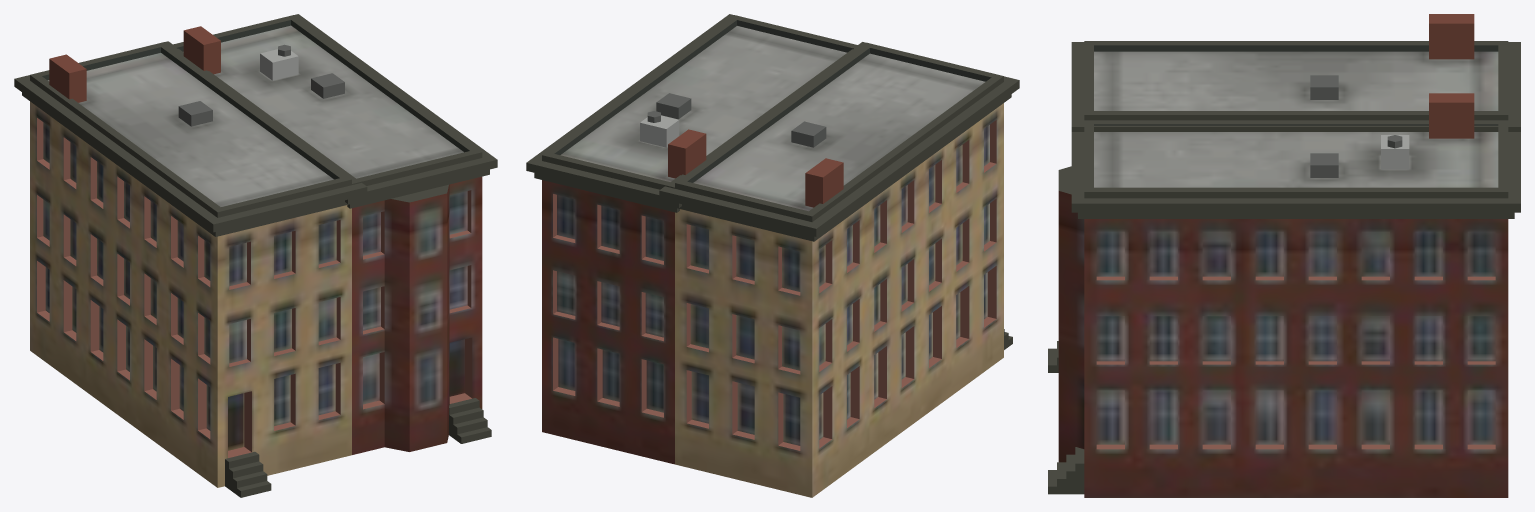
File: dc_brick_row_b.glb
3 renders of one model, left to right at view 1: azimuth 30°, elevation 25°; view 2: azimuth 150°, elevation 25°; view 3: azimuth 270°, elevation 25°, orthographic. The views are drawn at different scales.
Parts seen in each view (by area): view 1: dc_brick_row_b; view 2: dc_brick_row_b; view 3: dc_brick_row_b.
Part boxes in pixels (x1,y1,x2,y2): dc_brick_row_b: [14, 14, 497, 497]; dc_brick_row_b: [526, 14, 1019, 497]; dc_brick_row_b: [1048, 14, 1520, 497].
Size of the model in its own units: 13.1 by 13.3 by 16.73.
Materials: 1 (1 with a texture image).
